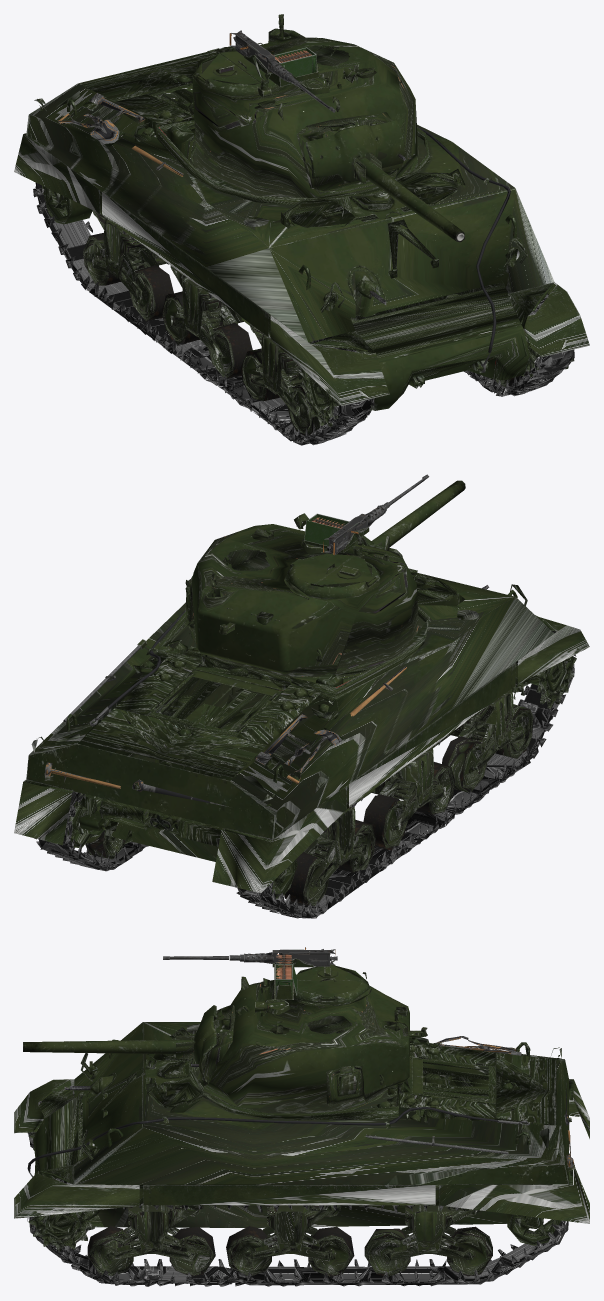
The model's file is sherman.glb.
The picture shows the model from 3 angles, top to bottom: view 1: azimuth 30°, elevation 25°; view 2: azimuth 150°, elevation 25°; view 3: azimuth 270°, elevation 25°; orthographic projection. The views are drawn at different scales.
Visible parts, largest first — view 1: Cube.535_111, Cylinder.006_186, Cylinder.793_53, Cylinder.894_83, Cube.235_181, Cube.230_102, Cube.227_99, Plane.075_11, Cube.231_103, Cylinder.355_37, Cube.238_132, Cylinder.356_38 (+12 smaller); view 2: Cube.535_111, Cylinder.006_186, Cylinder.793_53, Cube.235_181, Cube.231_103, Cube.238_132, Cube.227_99, Cube.239_133, Cylinder.355_37, Circle.013_122, Cylinder.356_38, Cube.230_102 (+10 smaller); view 3: Cube.535_111, Cylinder.006_186, Cylinder.793_53, Cube.235_181, Cube.227_99, Cube.231_103, Cube.230_102, Cube.238_132, Cylinder.894_83, Cylinder.355_37, Cylinder.356_38, Cube.239_133 (+17 smaller).
Boxes of the visible parts, <box> form: Cube.535_111: <box>26,46,554,342</box>; Cylinder.006_186: <box>192,14,418,198</box>; Cylinder.793_53: <box>83,210,530,435</box>; Cylinder.894_83: <box>350,280,529,410</box>; Cube.235_181: <box>33,155,574,445</box>; Cube.230_102: <box>270,282,589,405</box>; Cube.227_99: <box>102,192,268,336</box>; Plane.075_11: <box>305,120,405,183</box>; Cube.231_103: <box>14,133,99,213</box>; Cylinder.355_37: <box>192,48,279,96</box>; Cube.238_132: <box>80,47,235,101</box>; Cylinder.356_38: <box>229,30,335,112</box>; Cube.535_111: <box>26,573,554,861</box>; Cylinder.006_186: <box>191,513,418,677</box>; Cylinder.793_53: <box>85,689,533,906</box>; Cube.235_181: <box>34,631,576,918</box>; Cube.231_103: <box>14,780,346,893</box>; Cube.238_132: <box>81,708,266,777</box>; Cube.227_99: <box>349,662,515,807</box>; Cube.239_133: <box>115,654,321,744</box>; Cylinder.355_37: <box>285,531,379,599</box>; Circle.013_122: <box>157,607,429,700</box>; Cylinder.356_38: <box>304,474,429,555</box>; Cube.230_102: <box>518,617,589,684</box>; Cube.535_111: <box>74,1022,568,1227</box>; Cylinder.006_186: <box>197,978,409,1114</box>; Cylinder.793_53: <box>87,1205,492,1276</box>; Cube.235_181: <box>27,1091,569,1286</box>; Cube.227_99: <box>143,1185,435,1205</box>; Cube.231_103: <box>439,1079,589,1223</box>; Cube.230_102: <box>14,1079,139,1218</box>; Cube.238_132: <box>496,1053,556,1124</box>; Cylinder.894_83: <box>33,1091,103,1227</box>; Cylinder.355_37: <box>292,958,370,1005</box>; Cylinder.356_38: <box>163,947,337,999</box>; Cube.239_133: <box>399,1043,495,1117</box>.
Bounding box in the file's own units: 1.31 × 1.54 × 3.
9 materials, 9 textured.
